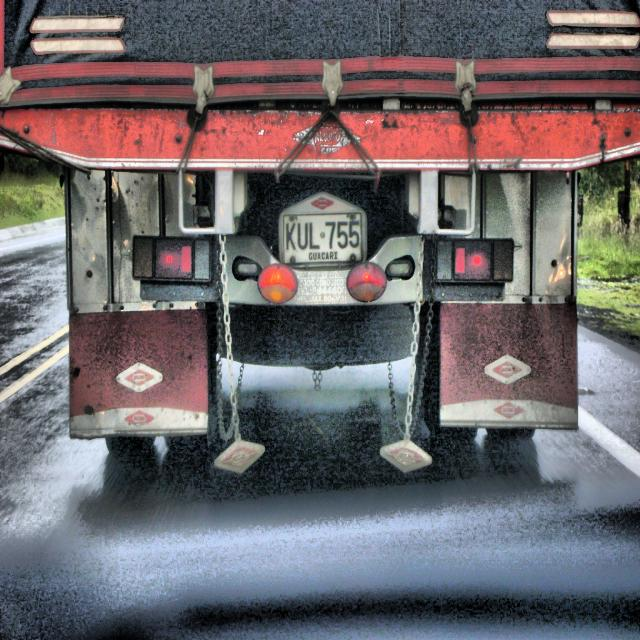plate: (282, 211, 363, 265)
